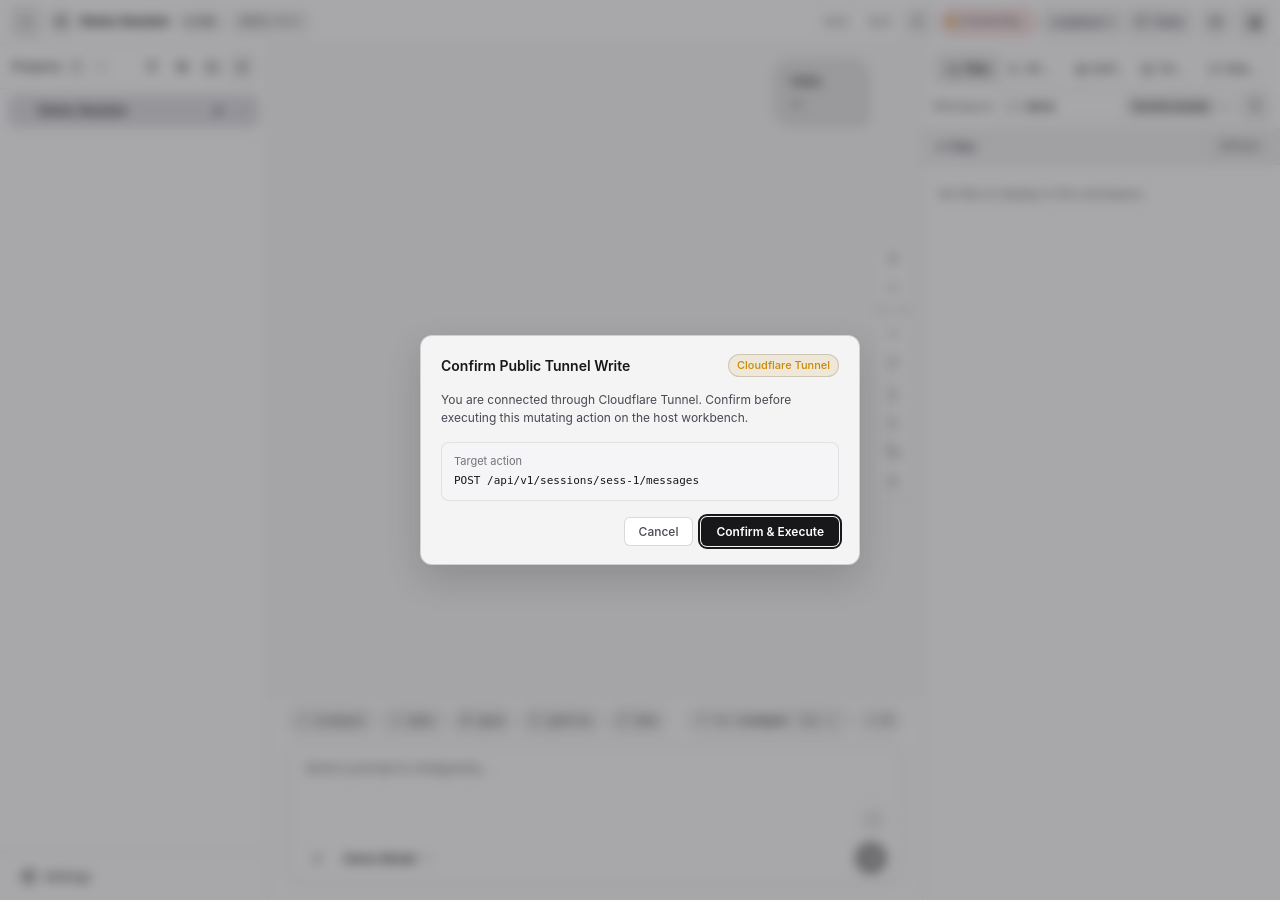
Test case: App optimistic send flow › shows WriteConfirmModal on Cloudflare write challenges and settles confirm/cancel sequentially
Expected: the dialog with test id "cloudflare-confirm-modal" is shown, [420,335,860,565]
Expected: the text with test id "cloudflare-confirm-action" reads "POST /api/v1/sessions/sess-1/messages", [454,474,699,487]
Click the button with test id "cloudflare-confirm-submit" at {"x": 770, "y": 531}, box [702,517,839,546]
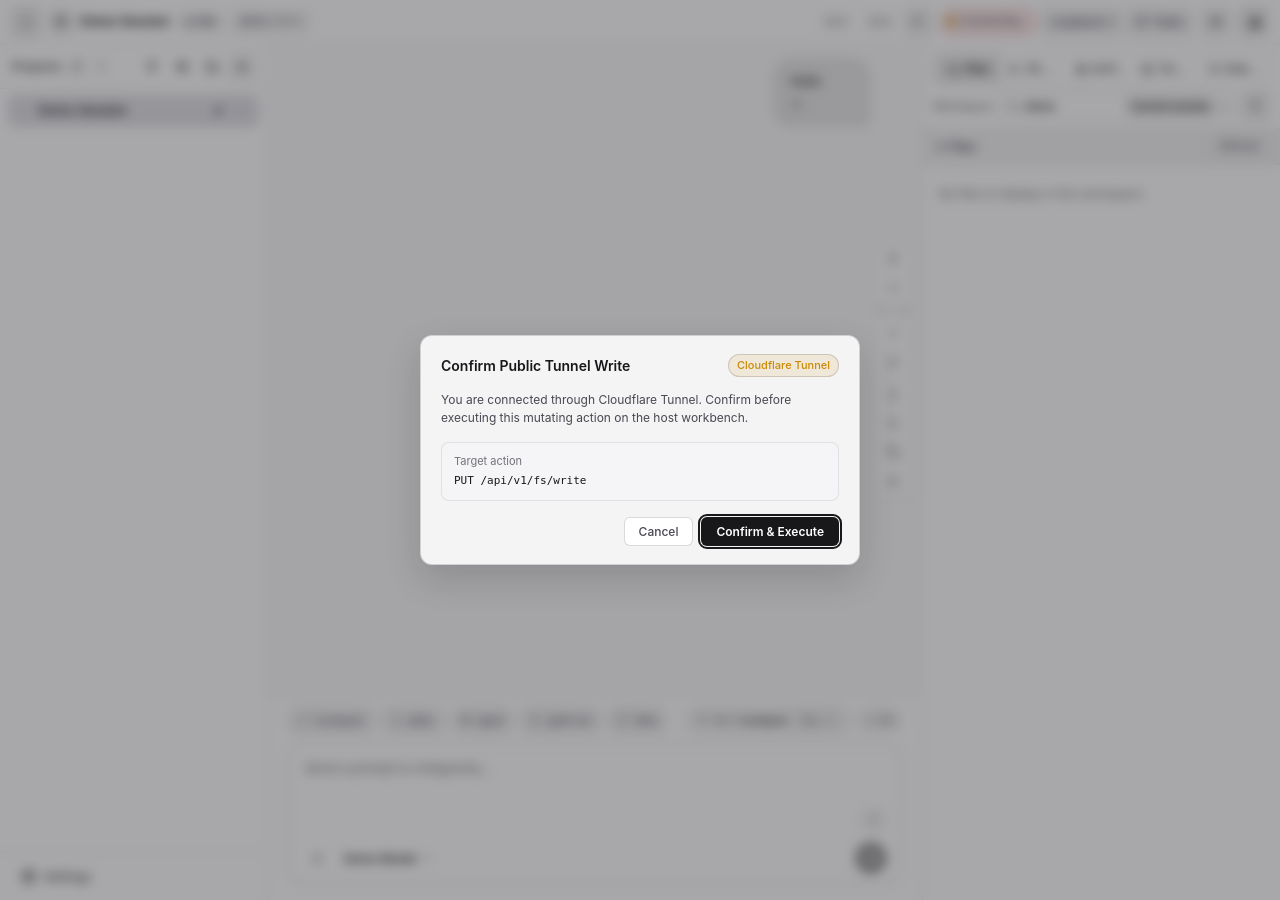
Expected: the text with test id "cloudflare-confirm-action" reads "PUT /api/v1/fs/write", [454,474,586,487]
Click the button with test id "cloudflare-confirm-cancel" at {"x": 658, "y": 531}, box [624,517,693,546]
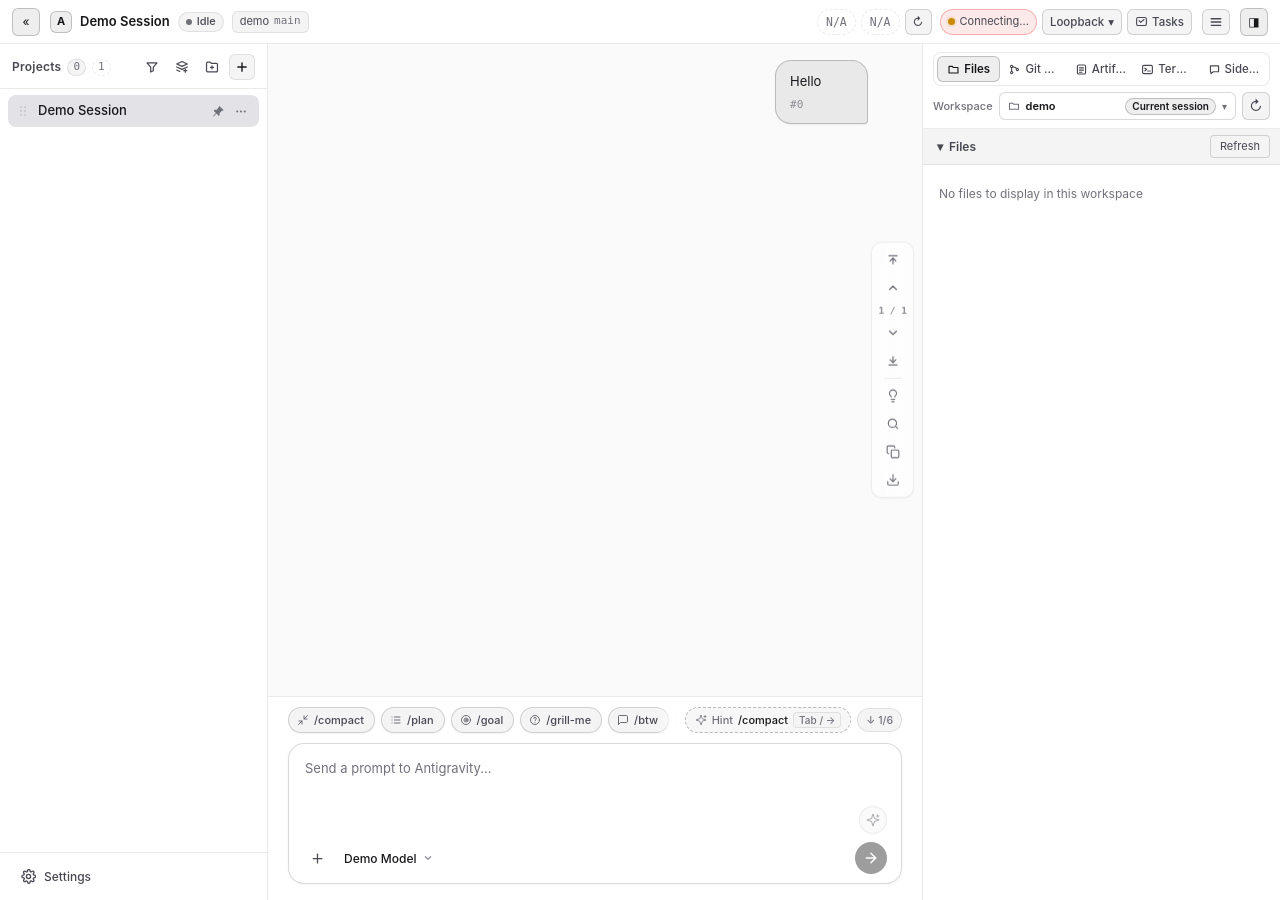
Expected: the dialog with test id "cloudflare-confirm-modal" is gone
